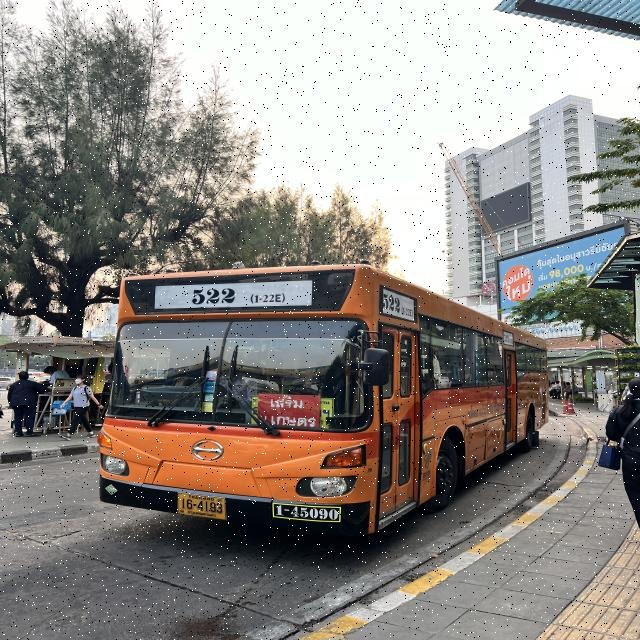BMTA-bus: (95, 264, 550, 539)
Bus Line Number: (176, 280, 290, 308)
Bus Side Number: (267, 503, 342, 523)
Destination Sign: (257, 394, 319, 429)
